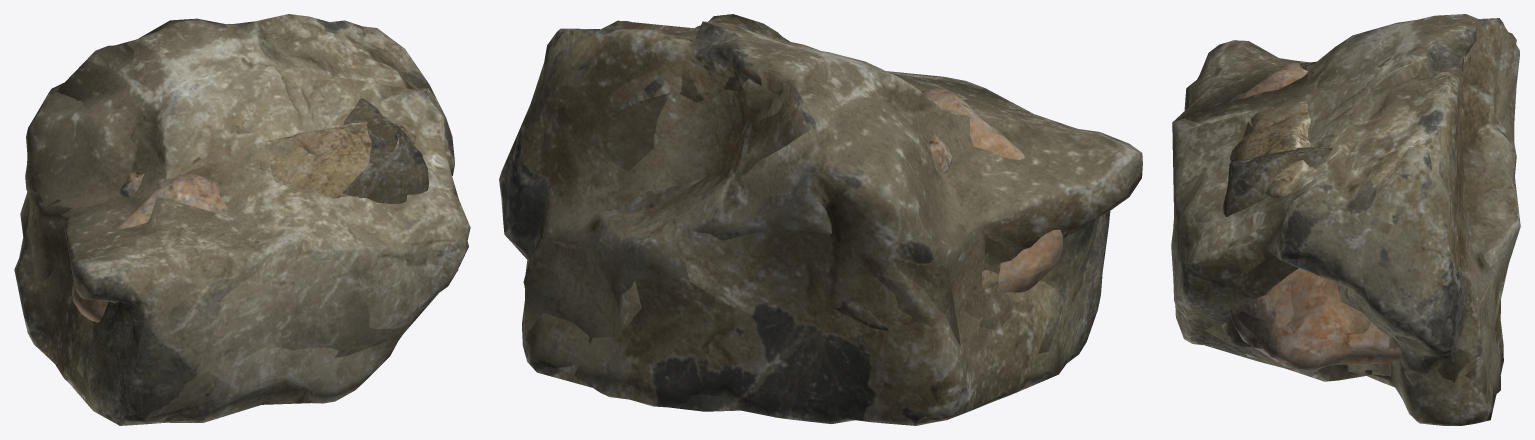
The model's file is small_rocks_pack_ucdjdfmva.glb.
The picture shows the model from 3 angles, left to right: view 1: azimuth 30°, elevation 25°; view 2: azimuth 150°, elevation 25°; view 3: azimuth 270°, elevation 25°; orthographic projection. The views are drawn at different scales.
Visible parts, largest first — view 1: ucdjdfmva_LOD0_TIER2_002, ucdjdfmva_LOD0_TIER2_002_MatID_1_0_far, ucdjdfmva_LOD0_TIER2_000, ucdjdfmva_LOD0_TIER2_004, ucdjdfmva_LOD0_TIER2_001, ucdjdfmva_LOD0_TIER2_004_MatID_1_0_far, ucdjdfmva_LOD0_TIER2_000_MatID_1_0_far; view 2: ucdjdfmva_LOD0_TIER2_002, ucdjdfmva_LOD0_TIER2_002_MatID_1_0_far, ucdjdfmva_LOD0_TIER2_001, ucdjdfmva_LOD0_TIER2_000, ucdjdfmva_LOD0_TIER2_000_MatID_1_0_far; view 3: ucdjdfmva_LOD0_TIER2_002, ucdjdfmva_LOD0_TIER2_002_MatID_1_0_far, ucdjdfmva_LOD0_TIER2_001, ucdjdfmva_LOD0_TIER2_001_MatID_1_0_far, ucdjdfmva_LOD0_TIER2_000, ucdjdfmva_LOD0_TIER2_004, ucdjdfmva_LOD0_TIER2_004_MatID_1_0_far, ucdjdfmva_LOD0_TIER2_000_MatID_1_0_far.
Part boxes in pixels (x1,y1,x2,y2): ucdjdfmva_LOD0_TIER2_002: (14,14,470,425); ucdjdfmva_LOD0_TIER2_002_MatID_1_0_far: (19,19,470,422); ucdjdfmva_LOD0_TIER2_000: (343,98,428,203); ucdjdfmva_LOD0_TIER2_004: (264,115,415,191); ucdjdfmva_LOD0_TIER2_001: (72,174,458,322); ucdjdfmva_LOD0_TIER2_004_MatID_1_0_far: (269,121,415,198); ucdjdfmva_LOD0_TIER2_000_MatID_1_0_far: (342,133,427,197); ucdjdfmva_LOD0_TIER2_002: (499,20,1142,425); ucdjdfmva_LOD0_TIER2_002_MatID_1_0_far: (502,20,1099,419); ucdjdfmva_LOD0_TIER2_001: (921,87,1063,292); ucdjdfmva_LOD0_TIER2_000: (608,14,887,330); ucdjdfmva_LOD0_TIER2_000_MatID_1_0_far: (628,14,846,313); ucdjdfmva_LOD0_TIER2_002: (1171,14,1520,425); ucdjdfmva_LOD0_TIER2_002_MatID_1_0_far: (1172,18,1519,425); ucdjdfmva_LOD0_TIER2_001: (1229,62,1402,371); ucdjdfmva_LOD0_TIER2_001_MatID_1_0_far: (1235,77,1400,368); ucdjdfmva_LOD0_TIER2_000: (1223,146,1470,345); ucdjdfmva_LOD0_TIER2_004: (1233,101,1311,198); ucdjdfmva_LOD0_TIER2_004_MatID_1_0_far: (1230,102,1304,195); ucdjdfmva_LOD0_TIER2_000_MatID_1_0_far: (1222,157,1471,347).
Bounding box in the file's own units: 0.2423 × 0.1605 × 0.1598.
Materials: 1 (1 with a texture image).
